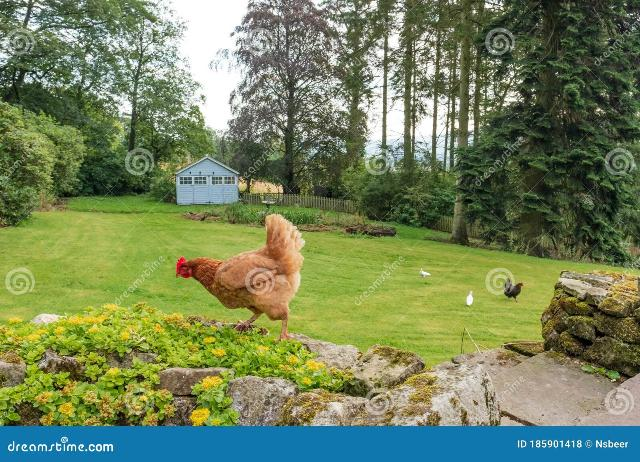Chicken: (175, 213, 308, 340), (501, 277, 524, 303)
